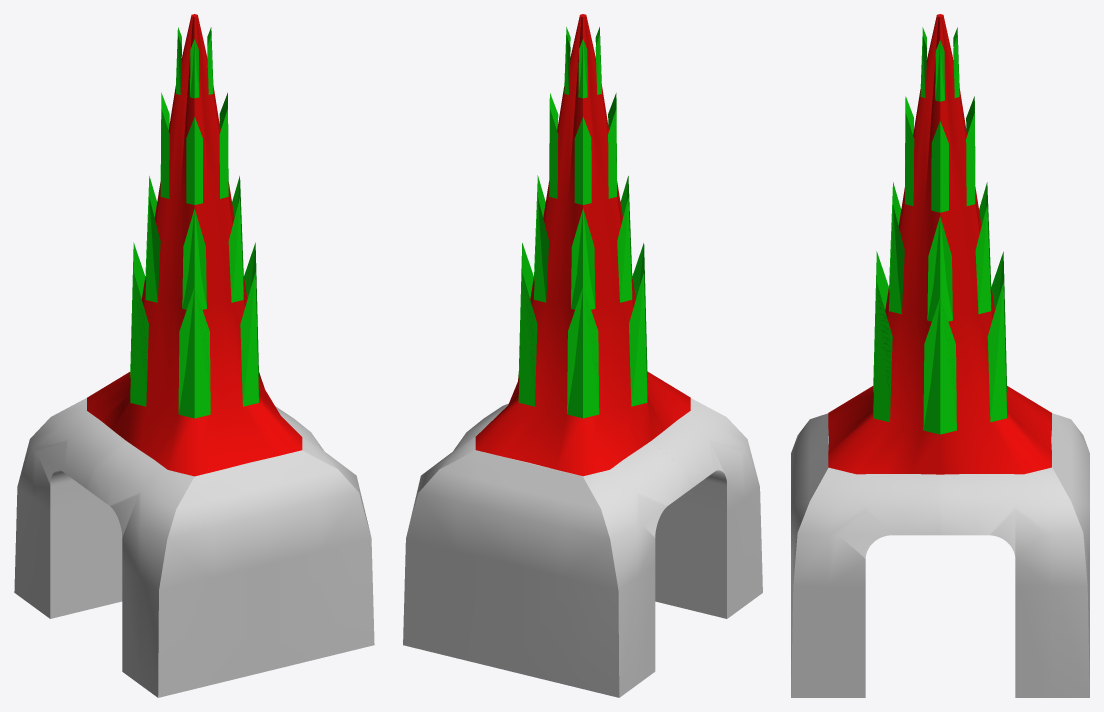
File: sPIRE.fbx
3 views of the same model, side by side, from view 1: azimuth 30°, elevation 25°; view 2: azimuth 150°, elevation 25°; view 3: azimuth 270°, elevation 25° (orthographic). The views are drawn at different scales.
Parts seen in each view (by area): view 1: Cube, Cylinder; view 2: Cube, Cylinder; view 3: Cylinder, Cube.
Part boxes in pixels (left/top/right/bottom): Cube: left=14, top=398, right=374, bottom=697; Cylinder: left=87, top=14, right=302, bottom=476; Cube: left=403, top=398, right=762, bottom=697; Cylinder: left=475, top=14, right=690, bottom=476; Cylinder: left=828, top=14, right=1051, bottom=474; Cube: left=791, top=413, right=1089, bottom=697.
Size of the model in its own units: 1247 by 3323 by 1434.
